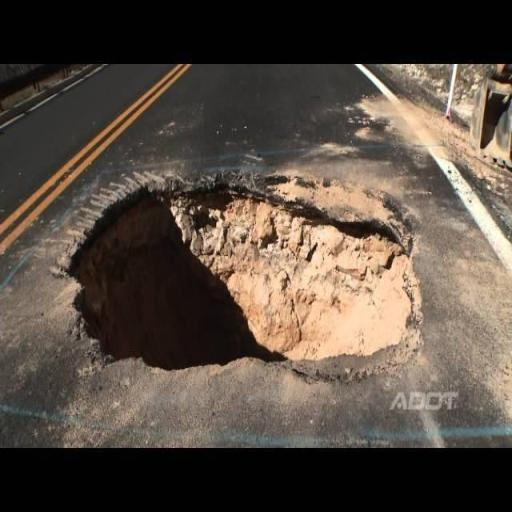Concentric_Crack: (70, 176, 422, 378)
